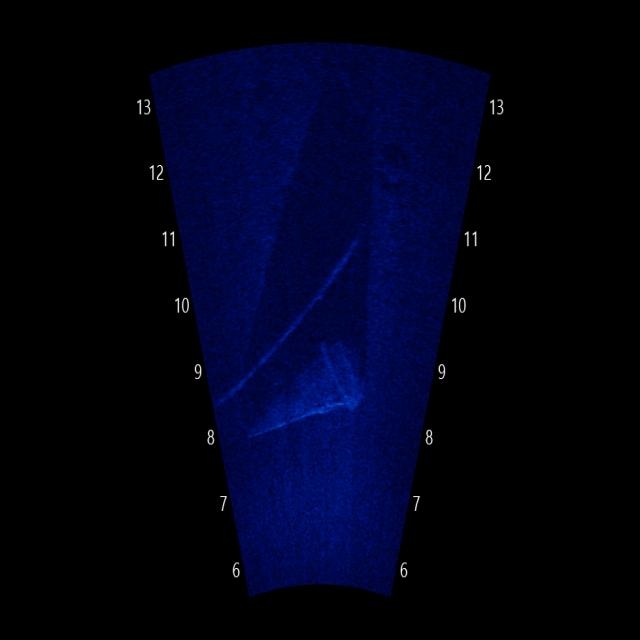circle: (362, 133, 425, 206)
triangle: (240, 338, 375, 452)
